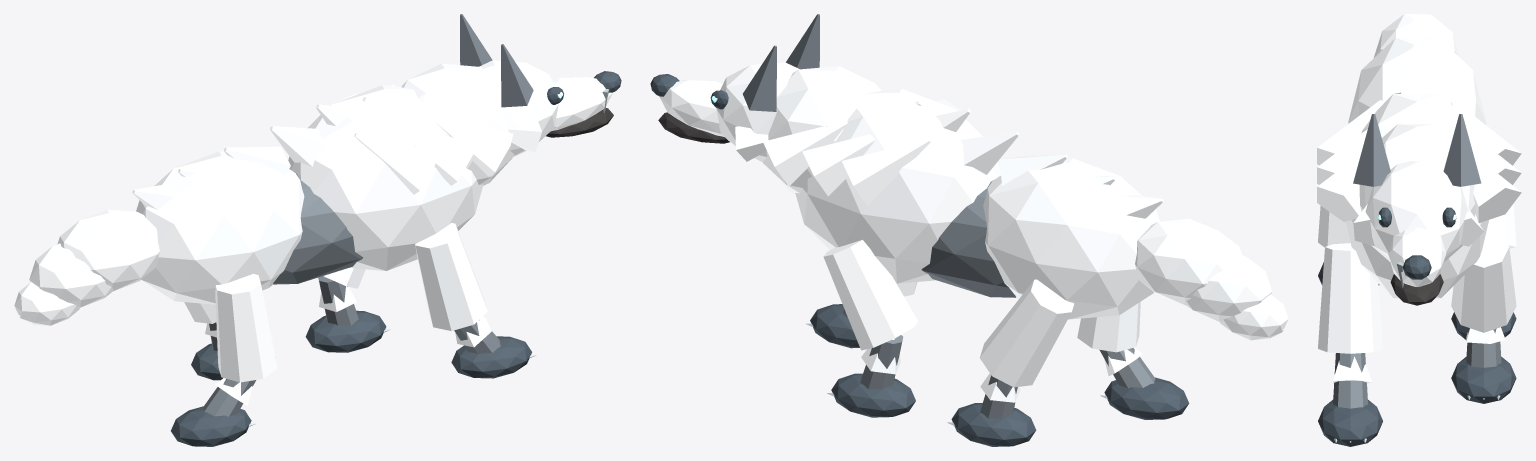
The model's file is frost-wolf-flinch.glb.
3 renders of one model, left to right at view 1: azimuth 30°, elevation 25°; view 2: azimuth 150°, elevation 25°; view 3: azimuth 270°, elevation 25°, orthographic. The views are drawn at different scales.
Parts seen in each view (by area): view 1: haunch, chest, tail-fur-0, upper-near-back, neck-fur, upper-near-front, belly, tail-fur-1, skull, paw-near-back, paw-far-front, ruff-2--0.48 (+16 smaller); view 2: haunch, chest, tail-fur-0, upper-far-front, upper-far-back, neck-fur, belly, tail-fur-1, skull, paw-near-back, ruff-2-0.48, paw-far-back (+17 smaller); view 3: skull, upper-near-front, haunch, chest, upper-far-front, neck-fur, paw-near-front, paw-far-front, snout, ruff-0--0.48, ruff-0-0.48, ear-near (+23 smaller).
Boxes of the visible parts, x1,y1,x2,y2 form: haunch: (136, 151, 304, 304); chest: (288, 85, 483, 270); tail-fur-0: (57, 209, 159, 291); upper-near-back: (215, 274, 277, 382); neck-fur: (401, 63, 514, 185); upper-near-front: (415, 223, 487, 330); belly: (273, 172, 362, 284); tail-fur-1: (29, 243, 113, 307); skull: (479, 60, 558, 156); paw-near-back: (171, 406, 251, 446); paw-far-front: (305, 310, 386, 352); ruff-2--0.48: (354, 133, 437, 194); haunch: (983, 158, 1159, 319); chest: (795, 88, 1000, 283); tail-fur-0: (1135, 218, 1241, 305); upper-far-front: (823, 240, 917, 350); upper-far-back: (980, 279, 1074, 387); neck-fur: (763, 66, 881, 194); belly: (921, 180, 1015, 297); tail-fur-1: (1184, 254, 1272, 321); skull: (716, 62, 799, 163); paw-near-back: (1104, 377, 1189, 419); ruff-2-0.48: (841, 139, 930, 205); paw-far-back: (951, 403, 1036, 446); skull: (1365, 160, 1468, 257); upper-near-front: (1318, 243, 1383, 353); haunch: (1348, 37, 1486, 124); chest: (1346, 94, 1488, 298); upper-far-front: (1451, 227, 1516, 332); neck-fur: (1359, 124, 1475, 261); paw-near-front: (1318, 399, 1382, 446); paw-far-front: (1451, 356, 1516, 403); snout: (1388, 227, 1446, 286); ruff-0--0.48: (1317, 153, 1361, 221); ruff-0-0.48: (1473, 155, 1521, 222); ear-near: (1353, 114, 1390, 186).
Bounding box in the file's own units: 6.09 × 3.06 × 1.69.
